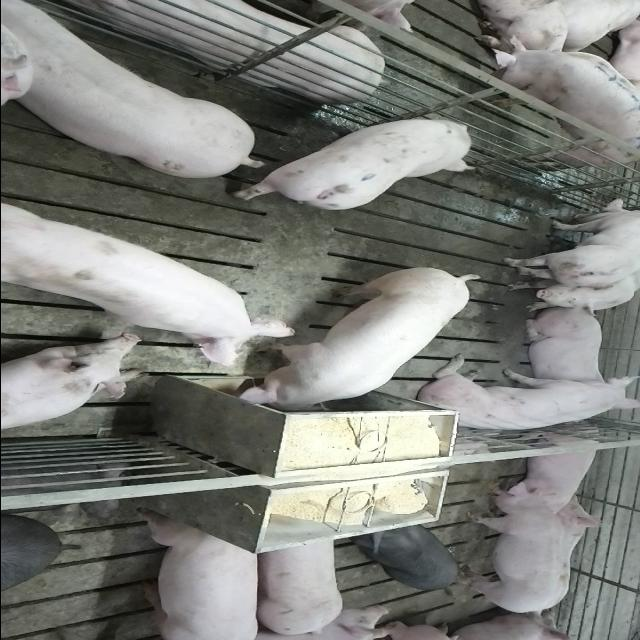Feeding: (4, 198, 301, 373), (230, 271, 480, 421)
Sitting: (414, 356, 636, 436), (498, 198, 638, 316)
Standing: (5, 5, 266, 184), (228, 116, 481, 212), (491, 36, 640, 173), (123, 512, 261, 638), (458, 482, 560, 618), (252, 526, 344, 634), (350, 523, 464, 594)
Sternal_lying: (44, 0, 402, 100), (0, 336, 144, 437), (508, 430, 602, 512), (520, 310, 606, 390)
